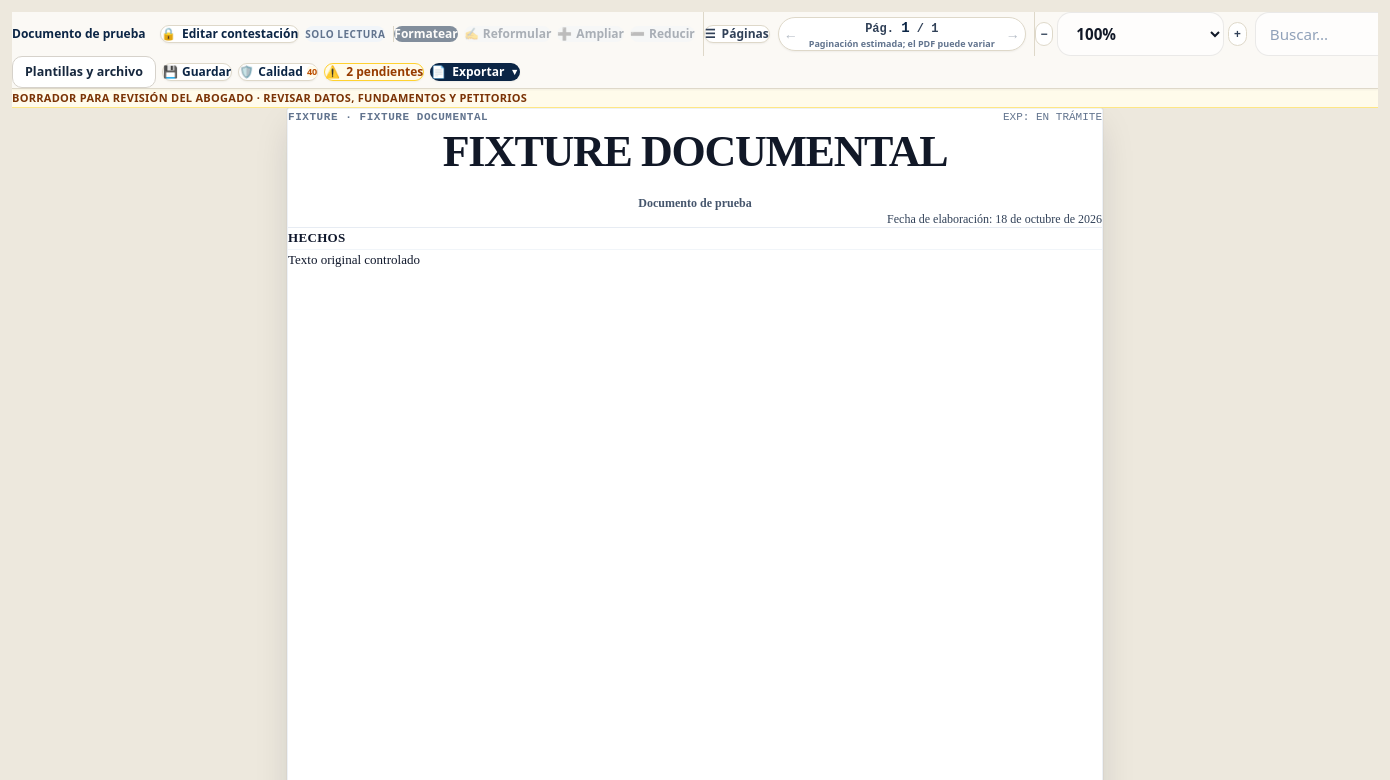
Test: incremental zoom displays the actual scale, not an empty select
Click the button titled "Acercar (+10%)": [1237, 34] box [1228,22,1247,46]
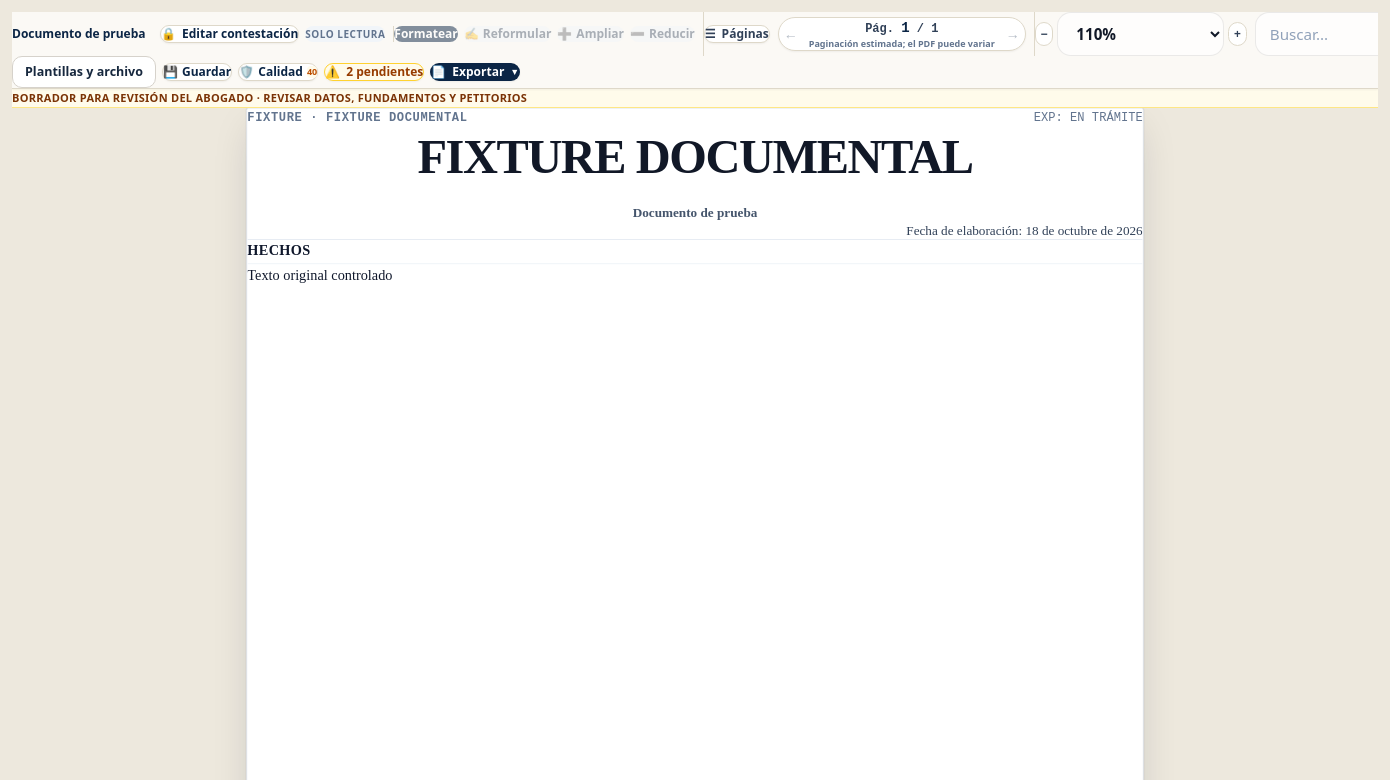
Expected: the dropdown titled "Seleccionar nivel de zoom" shows "110%", [1057,12,1224,56]
Click the button titled "Alejar (-10%)": [1044, 34] box [1035,22,1053,46]
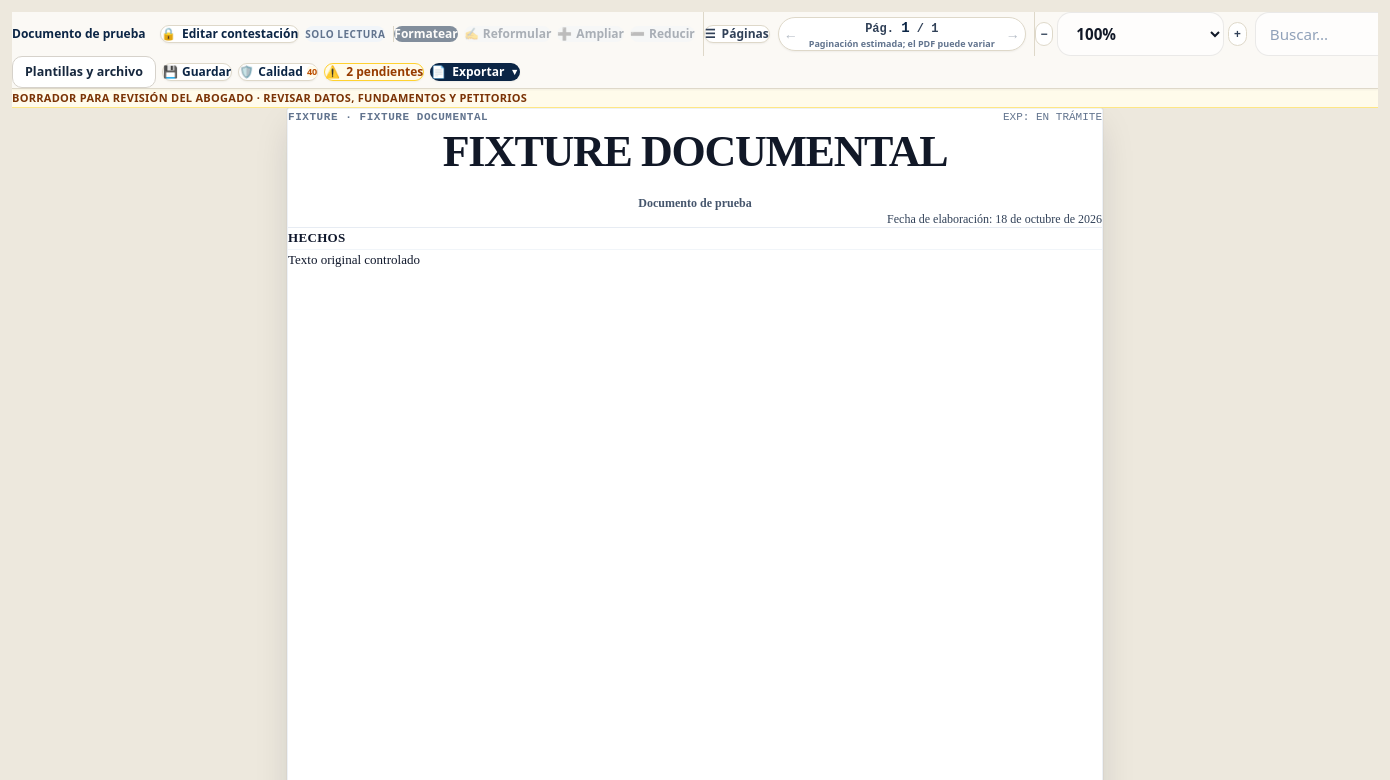
Expected: the dropdown titled "Seleccionar nivel de zoom" shows "100%", [1057,12,1224,56]
